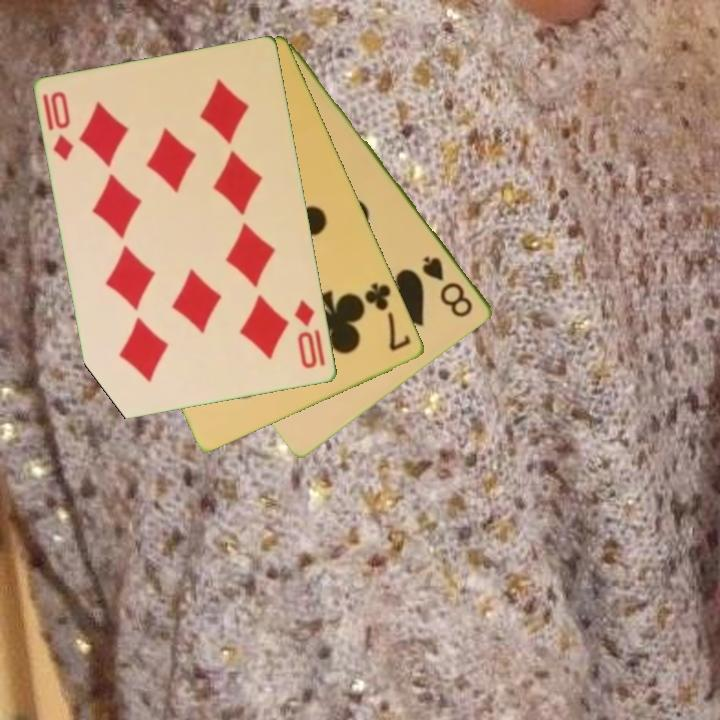10d: (291, 296, 321, 372), (47, 88, 77, 164)
7c: (361, 279, 415, 354)
8s: (419, 252, 477, 321)
